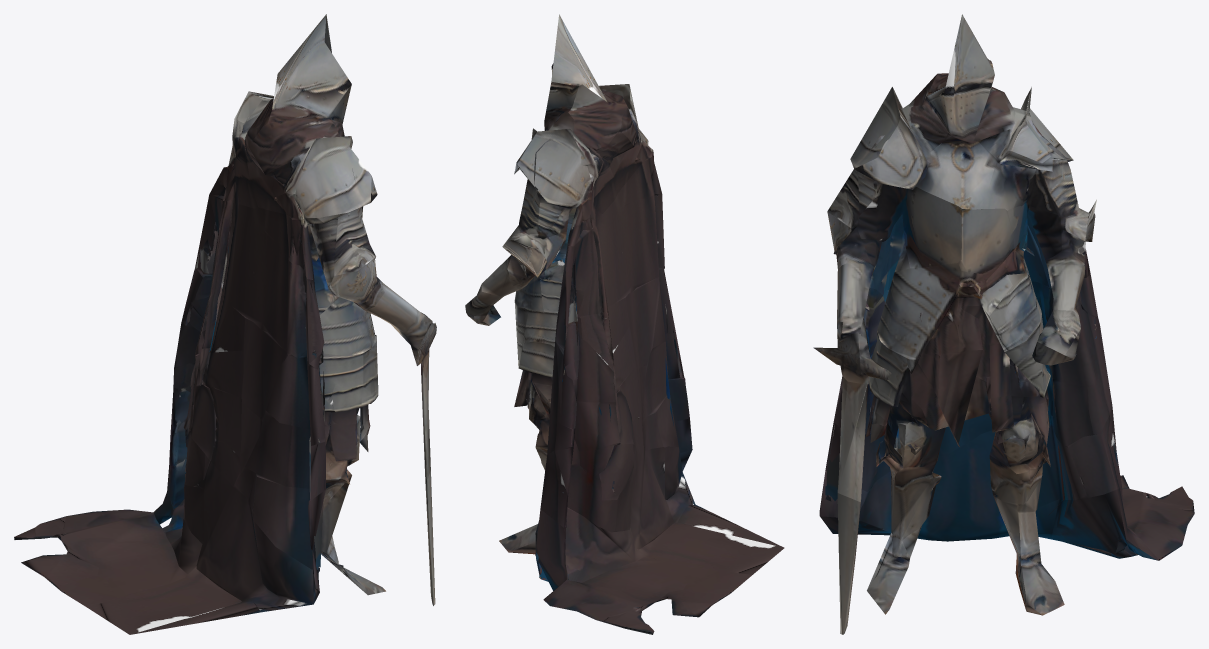
The picture shows the model from 3 angles, left to right: view 1: azimuth 30°, elevation 25°; view 2: azimuth 150°, elevation 25°; view 3: azimuth 270°, elevation 25°; orthographic projection. The views are drawn at different scales.
Visible parts, largest first — view 1: body; view 2: body; view 3: body.
Part boxes in pixels (x1=…): body: x1=14, y1=14, x2=436, y2=634; body: x1=465, y1=14, x2=784, y2=634; body: x1=813, y1=14, x2=1194, y2=634.
Bounding box in the file's own units: 0.5627 × 0.9903 × 0.5758.
Materials: 1 (1 with a texture image).
